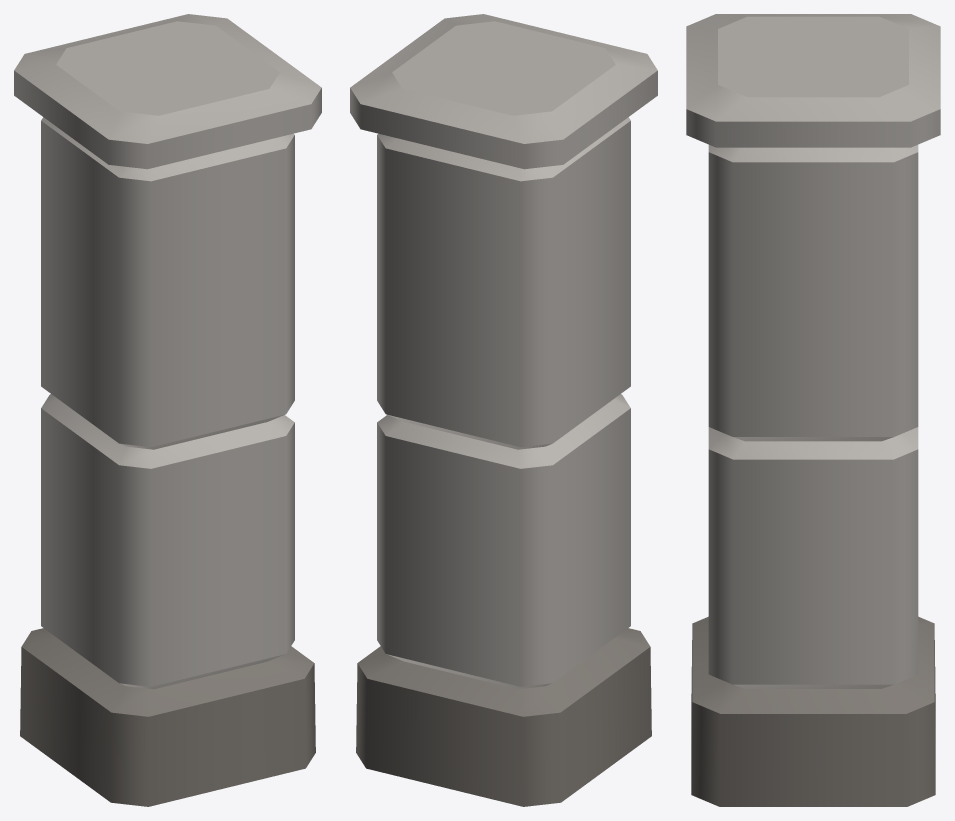
The model's file is Pillar 05.FBX.
The picture shows the model from 3 angles, left to right: view 1: azimuth 30°, elevation 25°; view 2: azimuth 150°, elevation 25°; view 3: azimuth 270°, elevation 25°; orthographic projection. The views are drawn at different scales.
Visible parts, largest first — view 1: Pillar 05; view 2: Pillar 05; view 3: Pillar 05.
Part boxes in pixels (x1=…): Pillar 05: x1=14, y1=14, x2=321, y2=806; Pillar 05: x1=350, y1=14, x2=657, y2=806; Pillar 05: x1=686, y1=14, x2=940, y2=806.
Size of the model in its own units: 94.93 by 288 by 94.93.
1 material, 1 textured.
